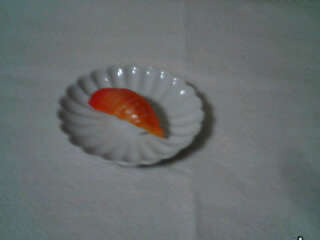002_classes: (85, 85, 165, 139)
